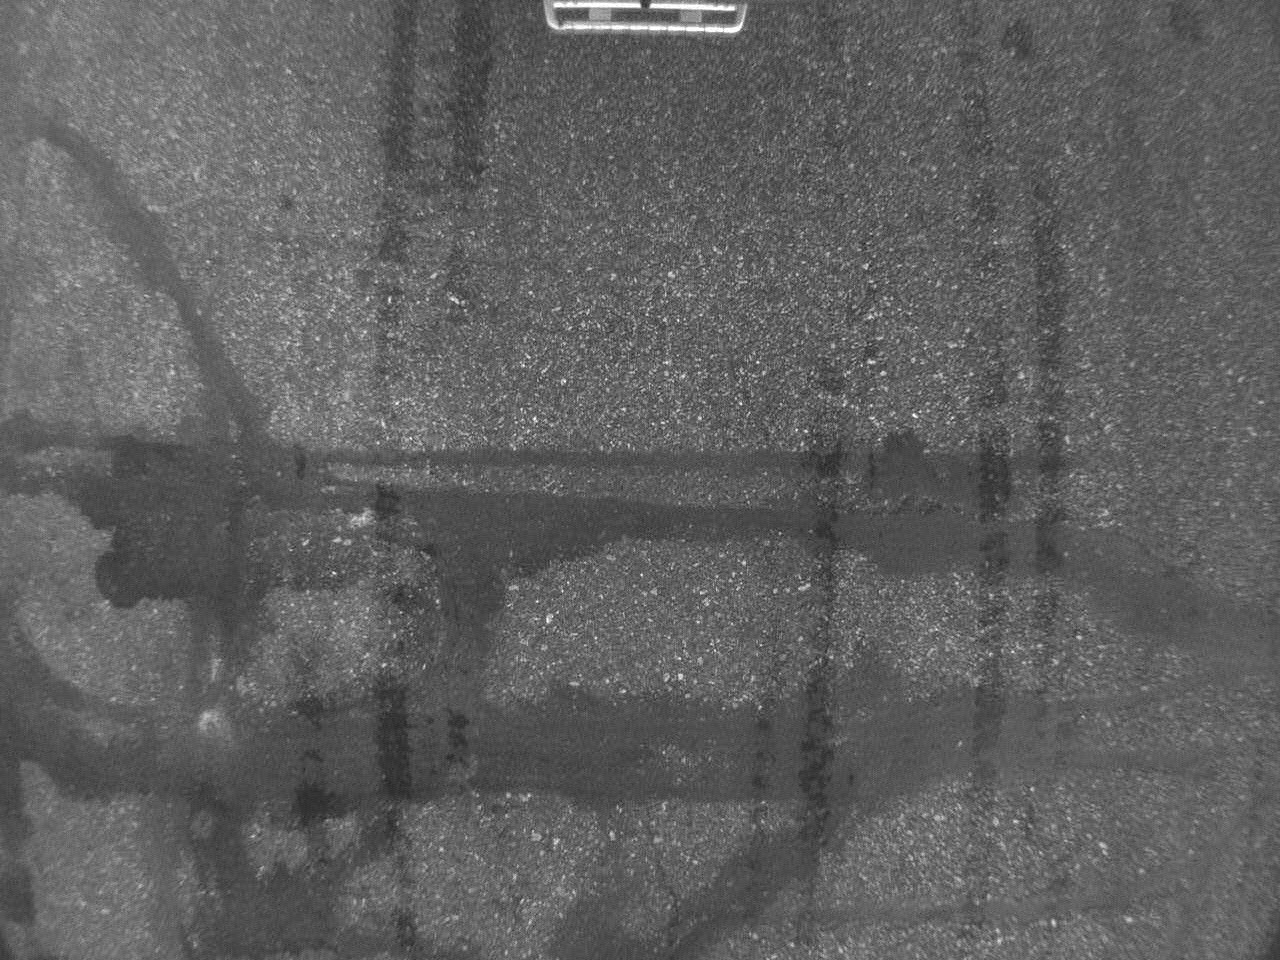sealed: (1, 410, 1008, 657)
